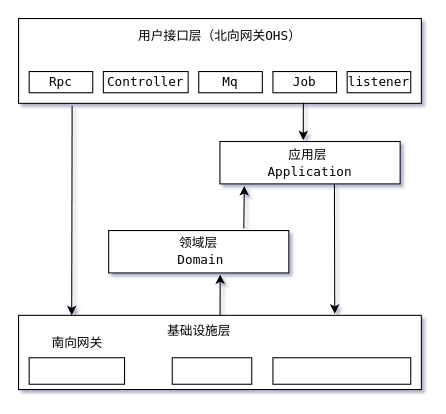
Some shapes in this 446 by 414 pixel diagram are drawn without their labels. The centre of each missing label's shape, as x and y in pixels:
"ACL" goes at pixel 76 370.
"Cache/MQ/HTTP/DAO" goes at pixel 341 370.
"common" goes at pixel 211 370.
